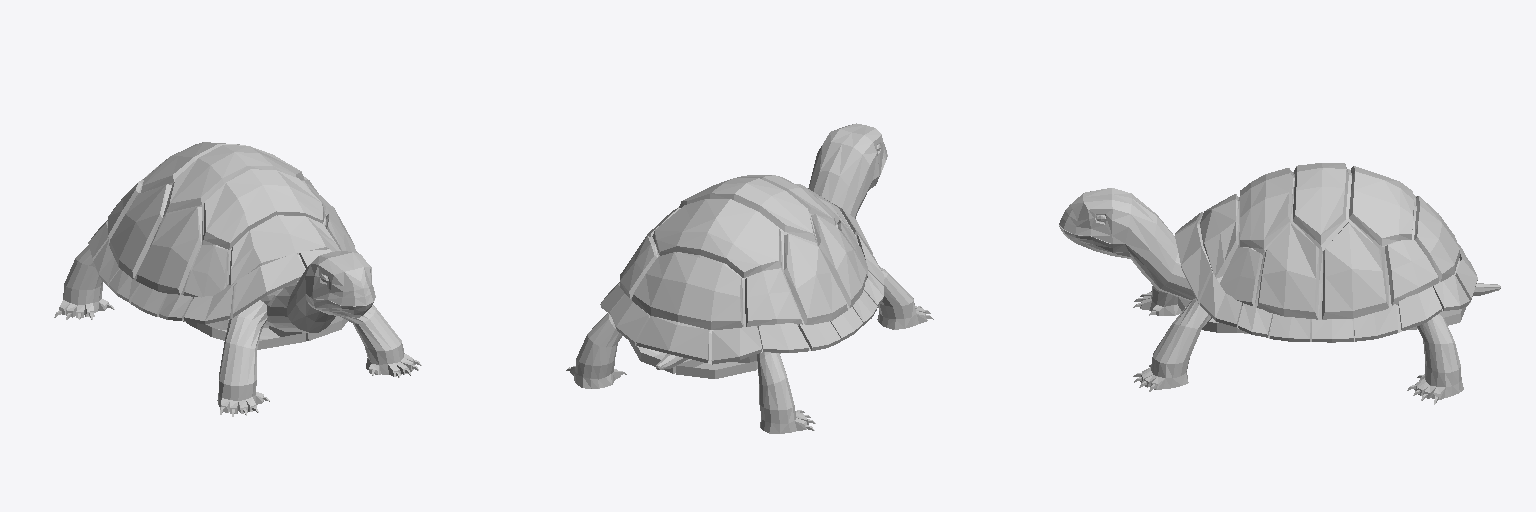
File: A rabbit and a turtle0.obj
3 views of the same model, side by side, from view 1: azimuth 30°, elevation 25°; view 2: azimuth 150°, elevation 25°; view 3: azimuth 270°, elevation 25° (orthographic).
Bounding box in the file's own units: 14.02 × 9.54 × 21.62.